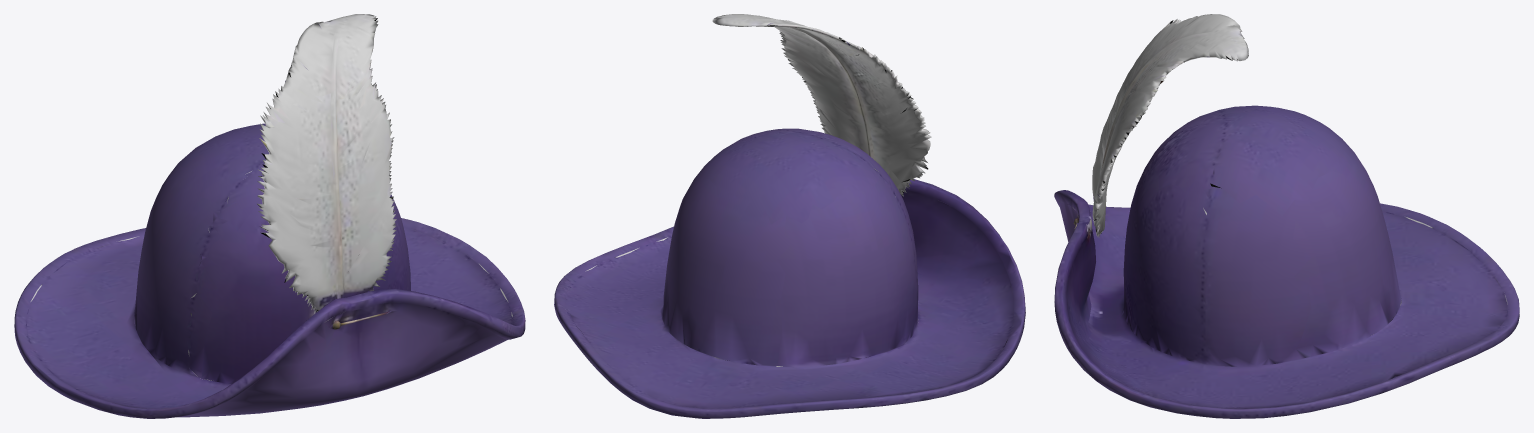
File: plume.glb
3 renders of one model, left to right at view 1: azimuth 30°, elevation 25°; view 2: azimuth 150°, elevation 25°; view 3: azimuth 270°, elevation 25°, orthographic. The views are drawn at different scales.
Parts seen in each view (by area): view 1: node_0; view 2: node_0; view 3: node_0.
Part boxes in pixels (<box>): node_0: <box>14,14,525,418</box>; node_0: <box>554,14,1025,418</box>; node_0: <box>1054,14,1519,418</box>.
Size of the model in its own units: 0.46 by 0.3132 by 0.4187.
Materials: 1 (1 with a texture image).
